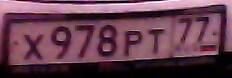license-plateSW: (8, 9, 219, 66)
